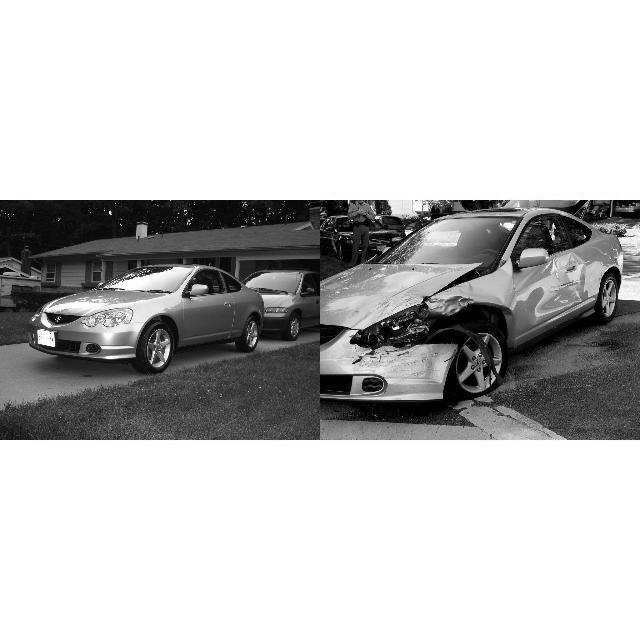Headlight-damage: (354, 291, 444, 360)
bonnet-dent: (328, 261, 423, 310)
fender-dent: (452, 265, 519, 326)
front-bumper-dent: (335, 341, 461, 399)
